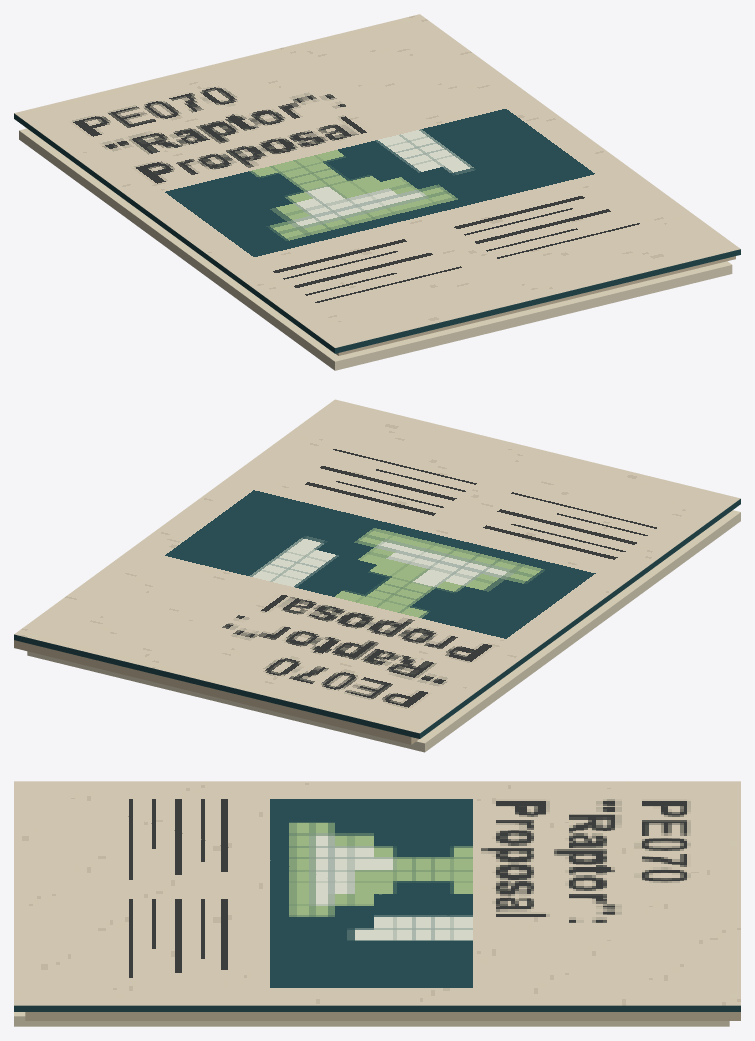
Rendered from recipe_raptor.glb.
3 renders of one model, top to bottom at view 1: azimuth 30°, elevation 25°; view 2: azimuth 150°, elevation 25°; view 3: azimuth 270°, elevation 25°, orthographic. The views are drawn at different scales.
Parts seen in each view (by area): view 1: block_report cover, block_offset bottom sheets, block_middle sheets; view 2: block_report cover, block_offset bottom sheets, block_middle sheets; view 3: block_report cover, block_middle sheets, block_offset bottom sheets.
Part boxes in pixels (x1,y1,x2,y2): block_report cover: [14, 14, 740, 353]; block_offset bottom sheets: [19, 128, 732, 370]; block_middle sheets: [336, 256, 735, 355]; block_report cover: [14, 399, 740, 738]; block_offset bottom sheets: [27, 510, 740, 752]; block_middle sheets: [14, 640, 418, 744]; block_report cover: [14, 781, 740, 1011]; block_middle sheets: [25, 1012, 740, 1020]; block_offset bottom sheets: [14, 1012, 729, 1026].
Bounding box in the file's own units: 0.1898 × 0.0101 × 0.26.
Materials: 1 (1 with a texture image).
